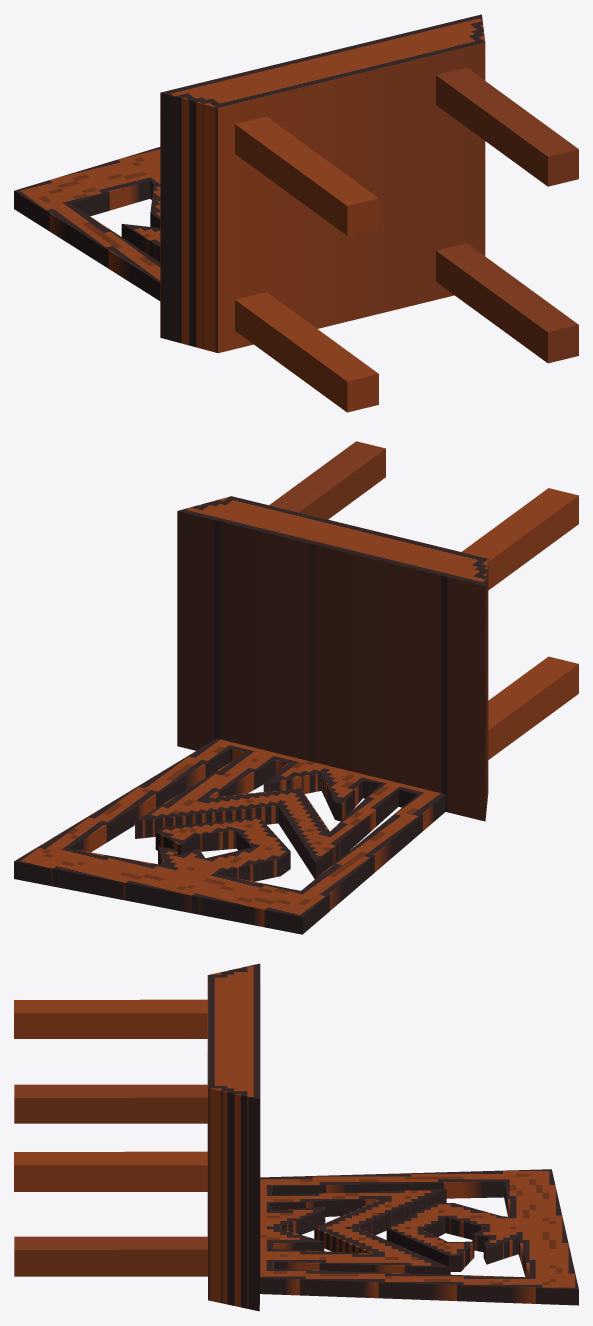
The model's file is chair.fbx.
The picture shows the model from 3 angles, top to bottom: view 1: azimuth 30°, elevation 25°; view 2: azimuth 150°, elevation 25°; view 3: azimuth 270°, elevation 25°; orthographic projection. The views are drawn at different scales.
Parts seen in each view (by area): view 1: Plane; view 2: Plane; view 3: Plane.
Boxes of the visible parts, x1=… form: Plane: x1=14, y1=14, x2=578, y2=412; Plane: x1=14, y1=441, x2=578, y2=934; Plane: x1=14, y1=963, x2=578, y2=1311.
Size of the model in its own units: 65.31 by 47.61 by 115.
